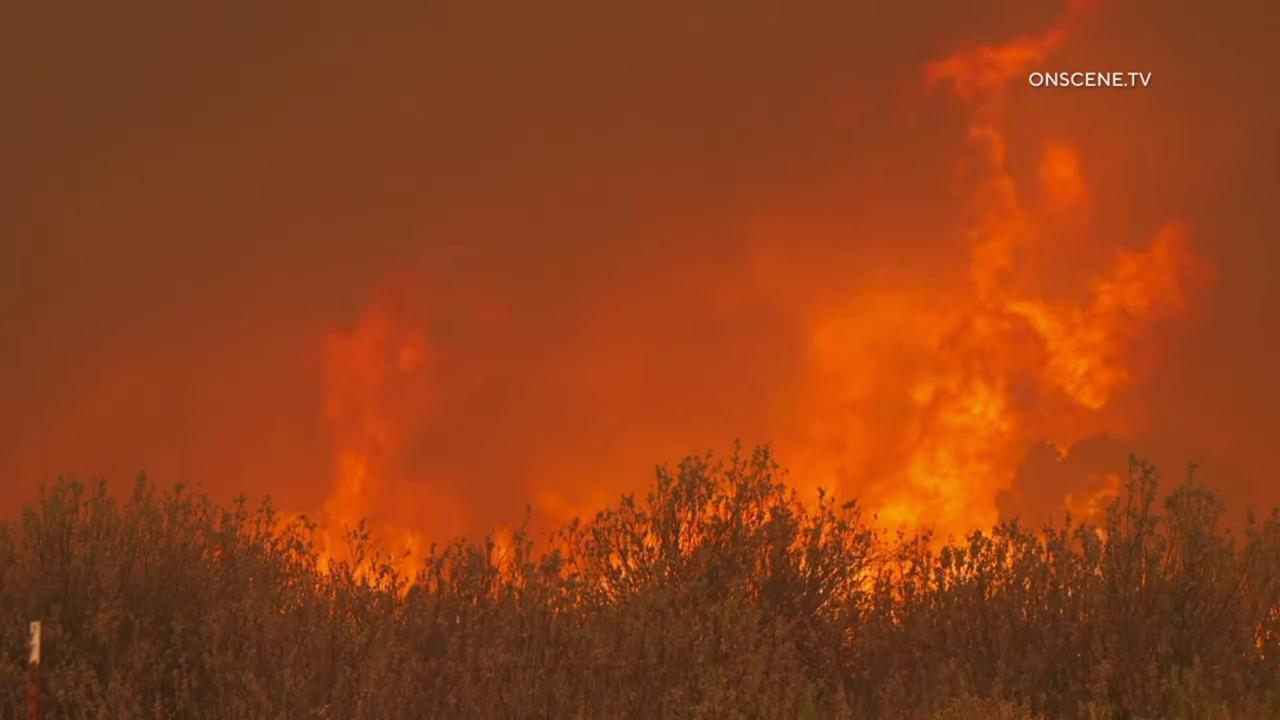fire: (824, 0, 1226, 619), (241, 287, 481, 606)
smoke: (0, 0, 1280, 720)
